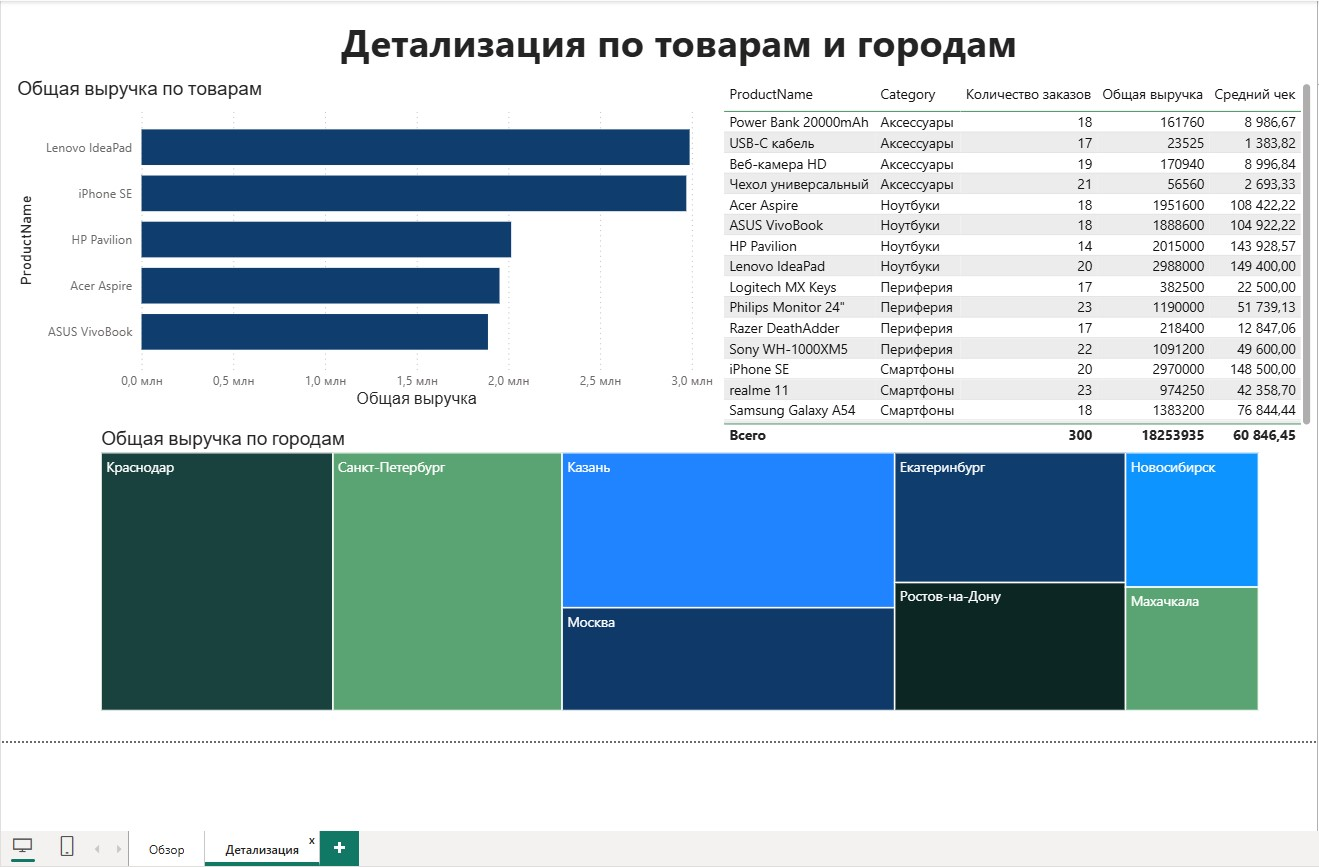

The page's visual inventory and layout, read from the dashboard file:
{"tool":"powerbi","page":{"name":"Детализация","canvas":[1280,720],"ordinal":1},"visuals":[{"type":"clusteredBarChart","title":"Общая выручка по товарам","fields":{"Category":["products.ProductName"],"Y":["sales.Общая выручка"]},"box":[10.5,74.9,687.2,325.5],"z":0},{"type":"treemap","title":"Общая выручка по городам","fields":{"Group":["customers.City"],"Values":["sales.Общая выручка"]},"box":[92.5,415.6,1135.6,279.8],"z":1000},{"type":"tableEx","fields":{"Values":["products.ProductName","products.Category","sales.Количество заказов","sales.Общая выручка","sales.Средний чек"]},"box":[697.8,74.9,581.9,360.6],"z":1001},{"type":"textbox","box":[255.2,9.4,809,65.6],"z":1002}]}

Visuals, with their boxes on the page's 1280x720 design canvas (x1, y1, x2, y2). These are canvas units, not pixel positions in the 1319x867 screenshot, which may show the page scaled, cropped or inside an application window:
"Общая выручка по товарам" clusteredBarChart: x1=10, y1=75, x2=698, y2=400
"Общая выручка по городам" treemap: x1=92, y1=416, x2=1228, y2=695
tableEx - products.ProductName x products.Category: x1=698, y1=75, x2=1280, y2=436
textbox: x1=255, y1=9, x2=1064, y2=75
